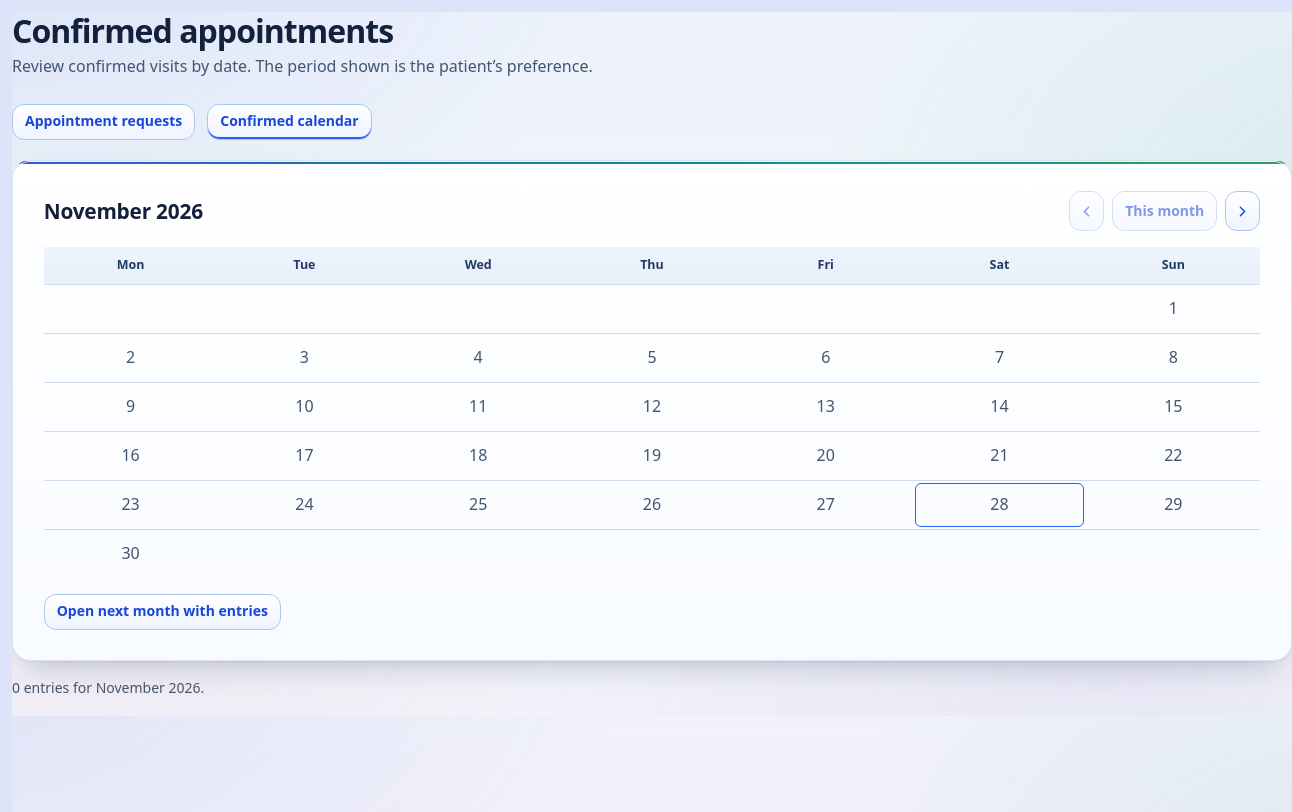
Test: Patient agenda › loads the provider’s confirmed visits without displaying non-confirmed appointments
The width and height of the screenshot is (1292, 812).
Click the button "Open next month with entries".
click(162, 612)  # box [44,594,281,630]
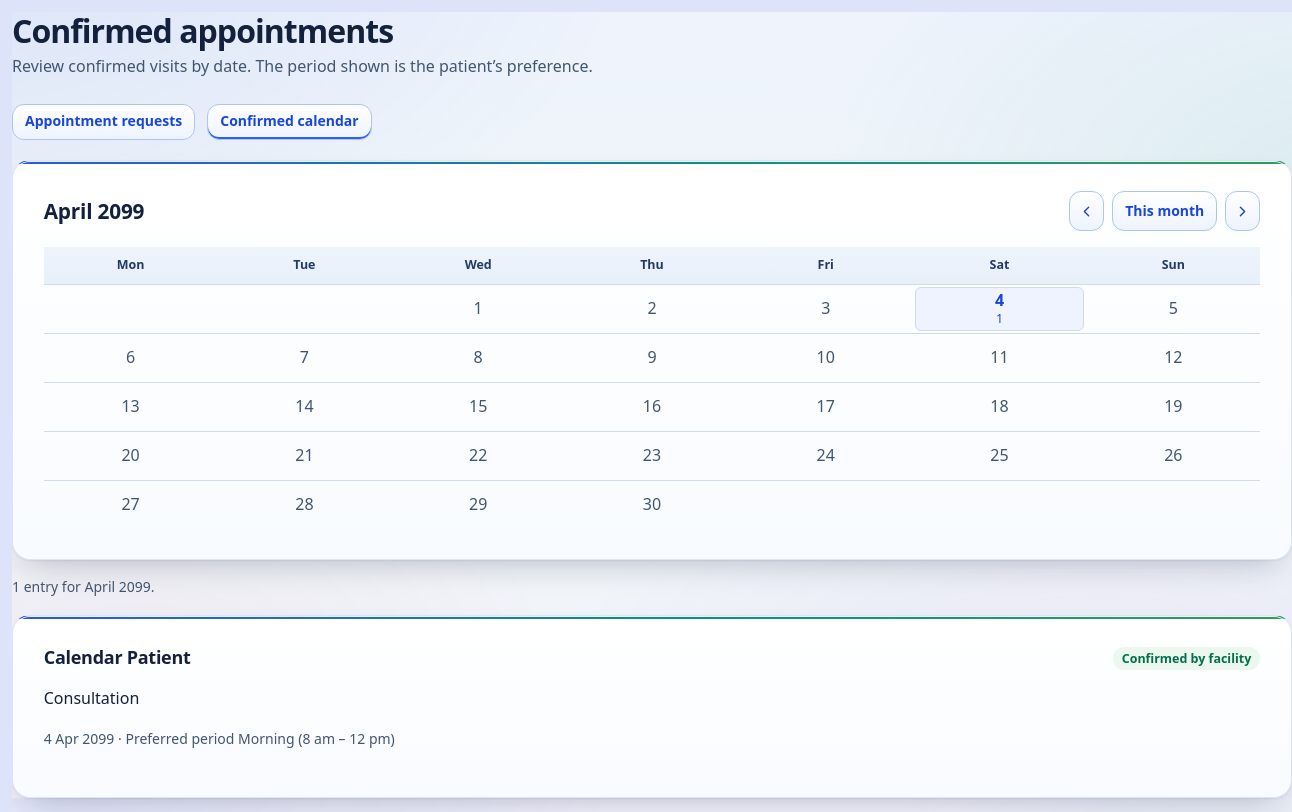
Expected: the heading "Calendar Patient" is shown, [44,647,190,668]
Expected: the text "4 Apr 2099 · Preferred period Morning (8 am – 12 pm)" is shown, [44,729,395,748]
